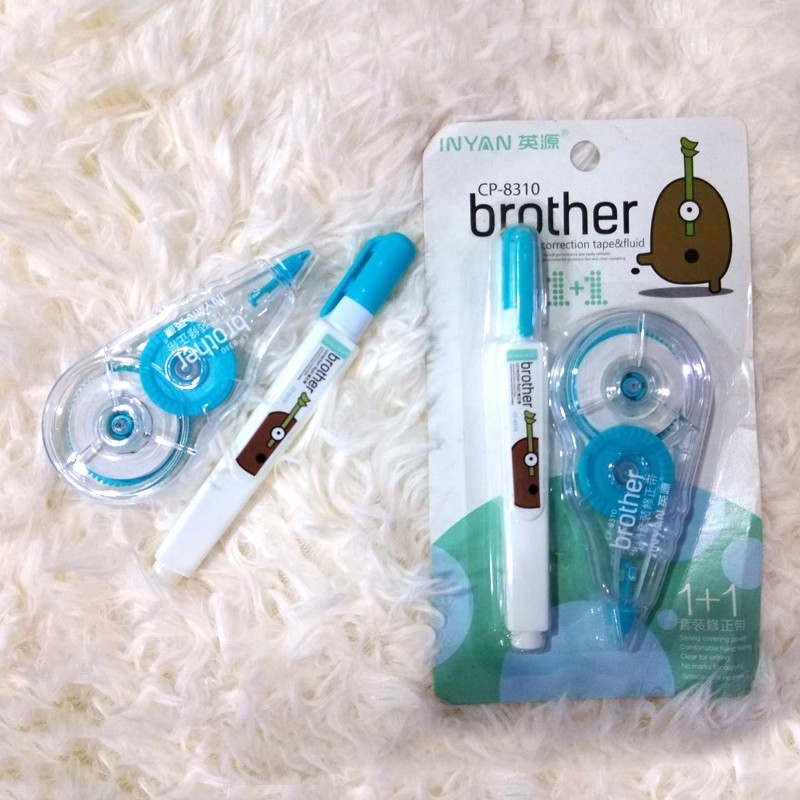Correction_fluid: (145, 228, 418, 594), (29, 240, 326, 512), (542, 304, 725, 654), (478, 213, 564, 660)
